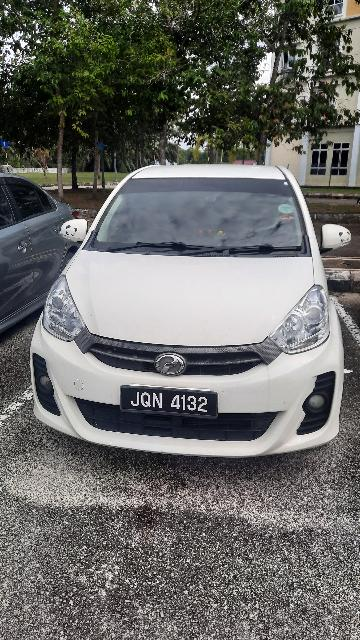License_Plate: (120, 382, 227, 424)
car: (26, 156, 360, 461)
